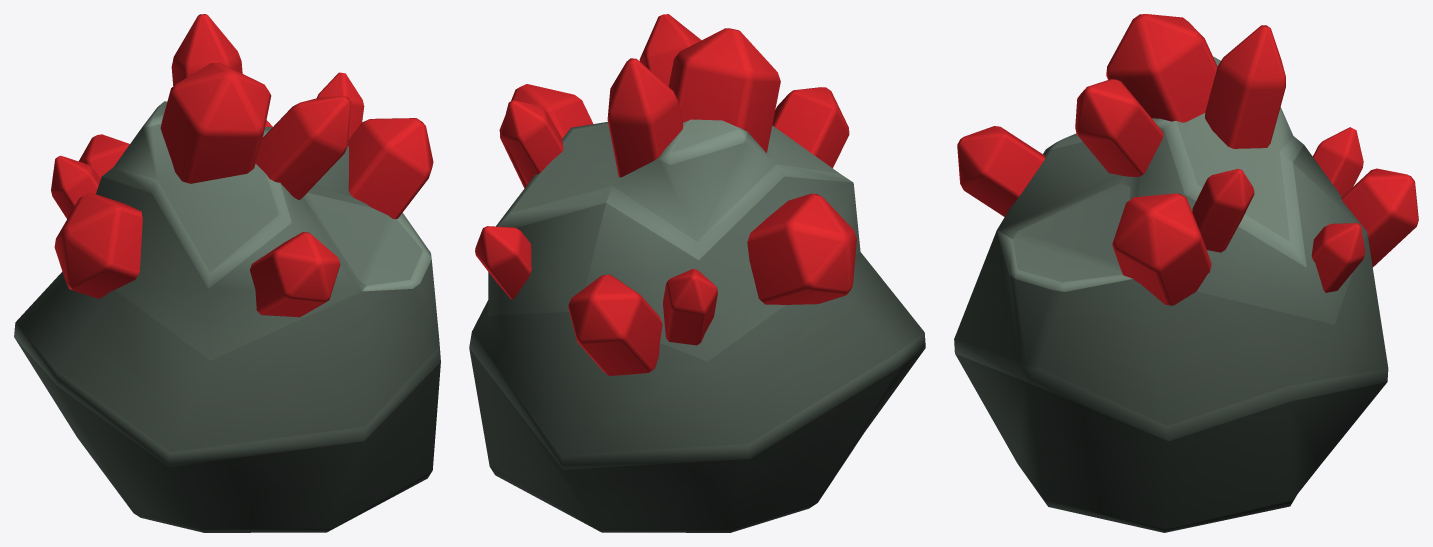
Rendered from ore_christal_ruby_L.fbx.
3 renders of one model, left to right at view 1: azimuth 30°, elevation 25°; view 2: azimuth 150°, elevation 25°; view 3: azimuth 270°, elevation 25°, orthographic. The views are drawn at different scales.
Parts seen in each view (by area): view 1: ore_christal_ruby_L; view 2: ore_christal_ruby_L; view 3: ore_christal_ruby_L.
Boxes of the visible parts, left/top/right/bottom form: ore_christal_ruby_L: left=14, top=14, right=440, bottom=532; ore_christal_ruby_L: left=469, top=14, right=925, bottom=532; ore_christal_ruby_L: left=954, top=14, right=1418, bottom=532.
Size of the model in its own units: 211 by 252 by 218.
Materials: 1 (1 with a texture image).
